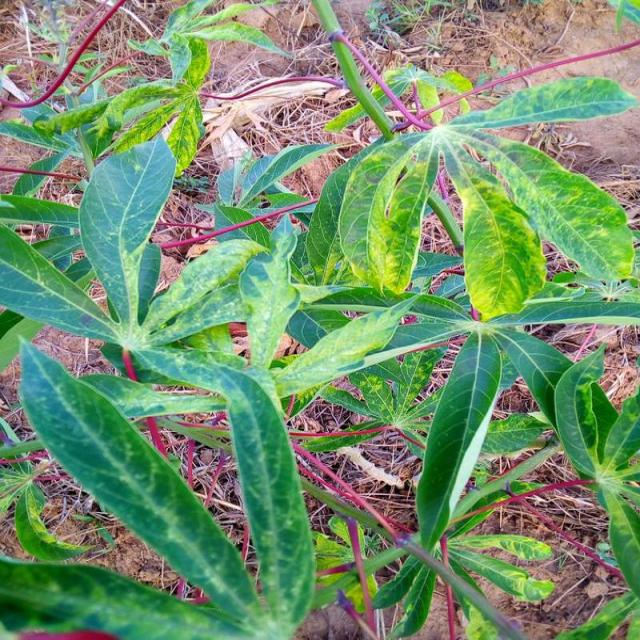cassava leaf: (0, 5, 638, 637), (16, 337, 266, 633), (77, 132, 177, 330), (337, 129, 440, 298)
